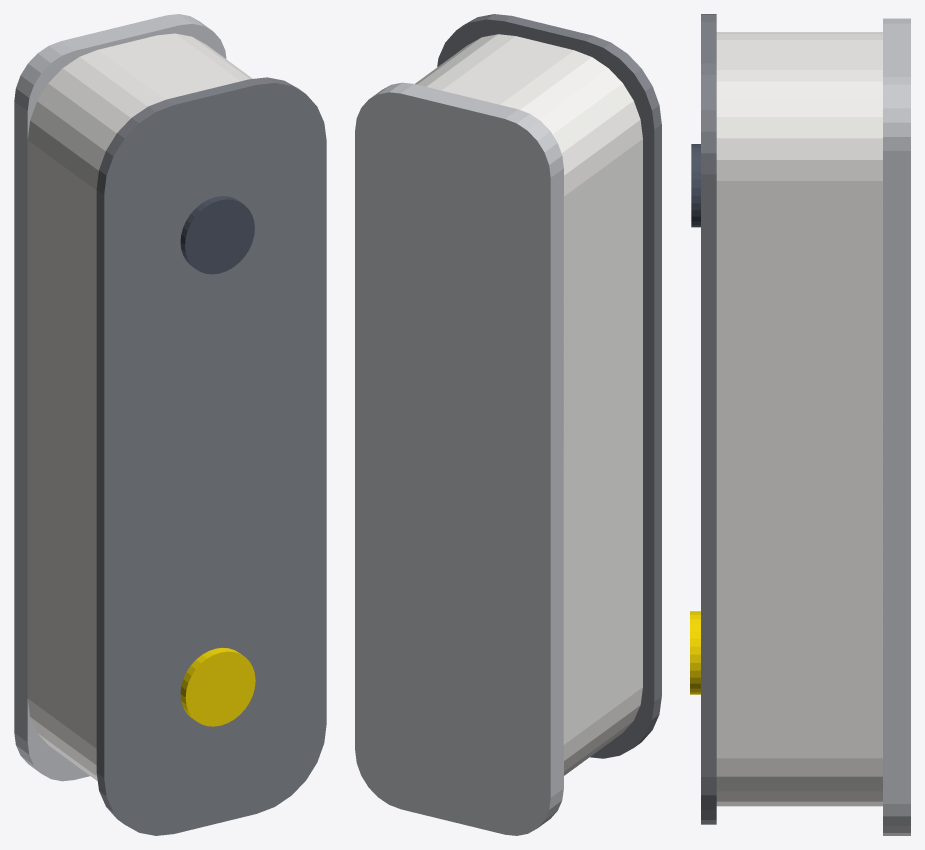
Rendered from device.canary-vision-doorbell.glb.
3 views of the same model, side by side, from view 1: azimuth 30°, elevation 25°; view 2: azimuth 150°, elevation 25°; view 3: azimuth 270°, elevation 25° (orthographic). The views are drawn at different scales.
Size of the model in its own units: 0.0382 by 0.1208 by 0.0318.
